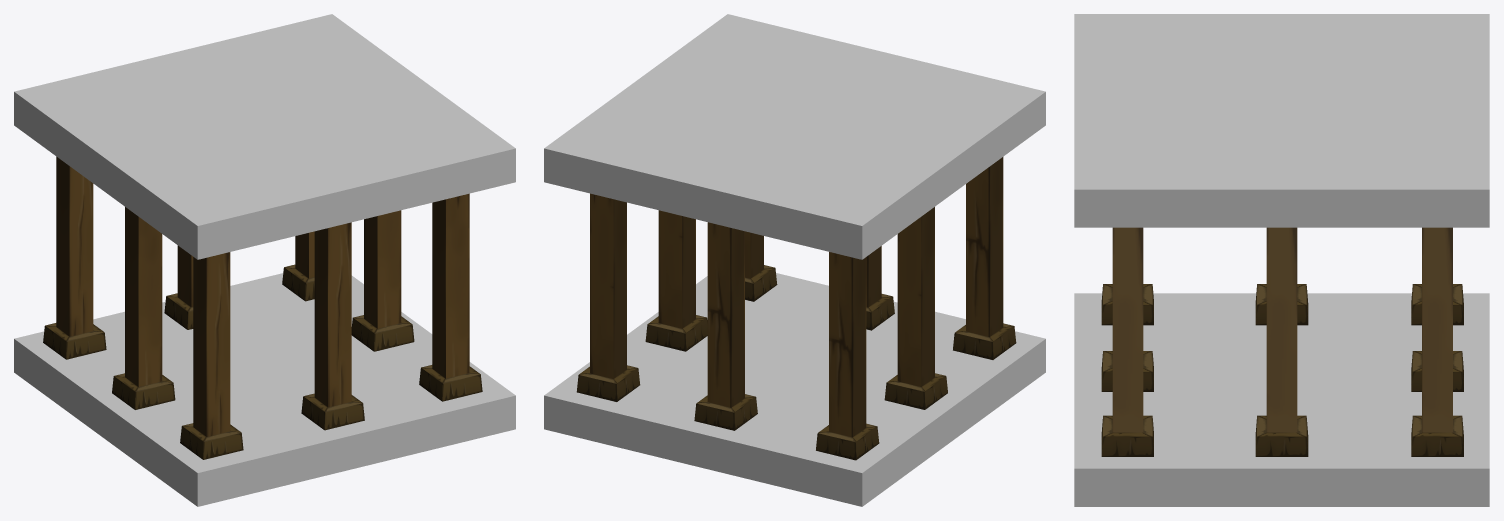
File: Dg_01_WoodBox_001.FBX
3 views of the same model, side by side, from view 1: azimuth 30°, elevation 25°; view 2: azimuth 150°, elevation 25°; view 3: azimuth 270°, elevation 25° (orthographic). The views are drawn at different scales.
Visible parts, largest first — view 1: Dg_01_WoodBox_001; view 2: Dg_01_WoodBox_001; view 3: Dg_01_WoodBox_001.
Boxes of the visible parts, x1,y1,x2,y2 form: Dg_01_WoodBox_001: (14,14,515,506); Dg_01_WoodBox_001: (544,14,1045,506); Dg_01_WoodBox_001: (1074,14,1489,506).
Bounding box in the file's own units: 1.28 × 1.08 × 1.28.
